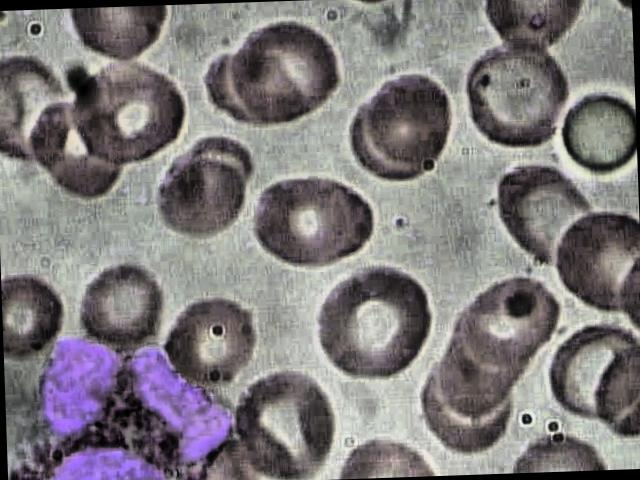RBC: (306, 262, 442, 392), (489, 156, 602, 275), (68, 56, 185, 168), (461, 39, 573, 154), (228, 18, 349, 124), (230, 366, 344, 478), (251, 176, 364, 269), (161, 292, 270, 386), (464, 270, 566, 366), (360, 72, 454, 168), (149, 154, 248, 237), (80, 258, 166, 347)
WBC: (4, 324, 246, 480)
